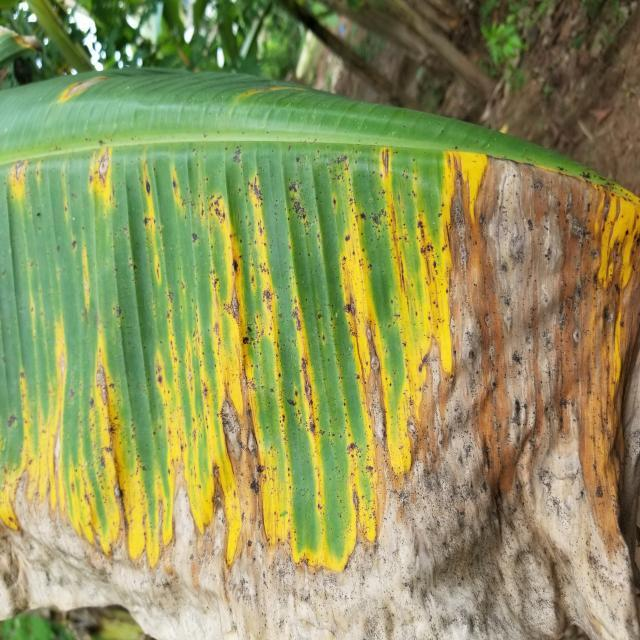Early_rust: (0, 48, 640, 618)
